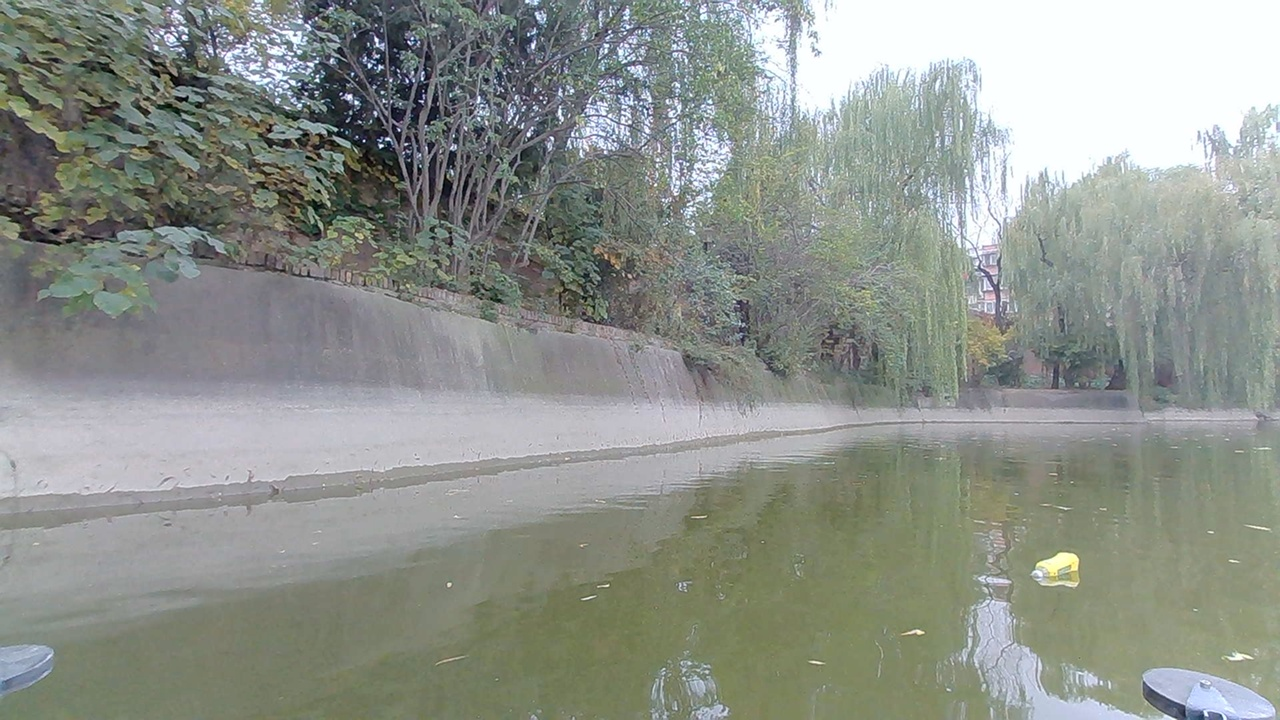bottle: (1043, 557, 1077, 580)
